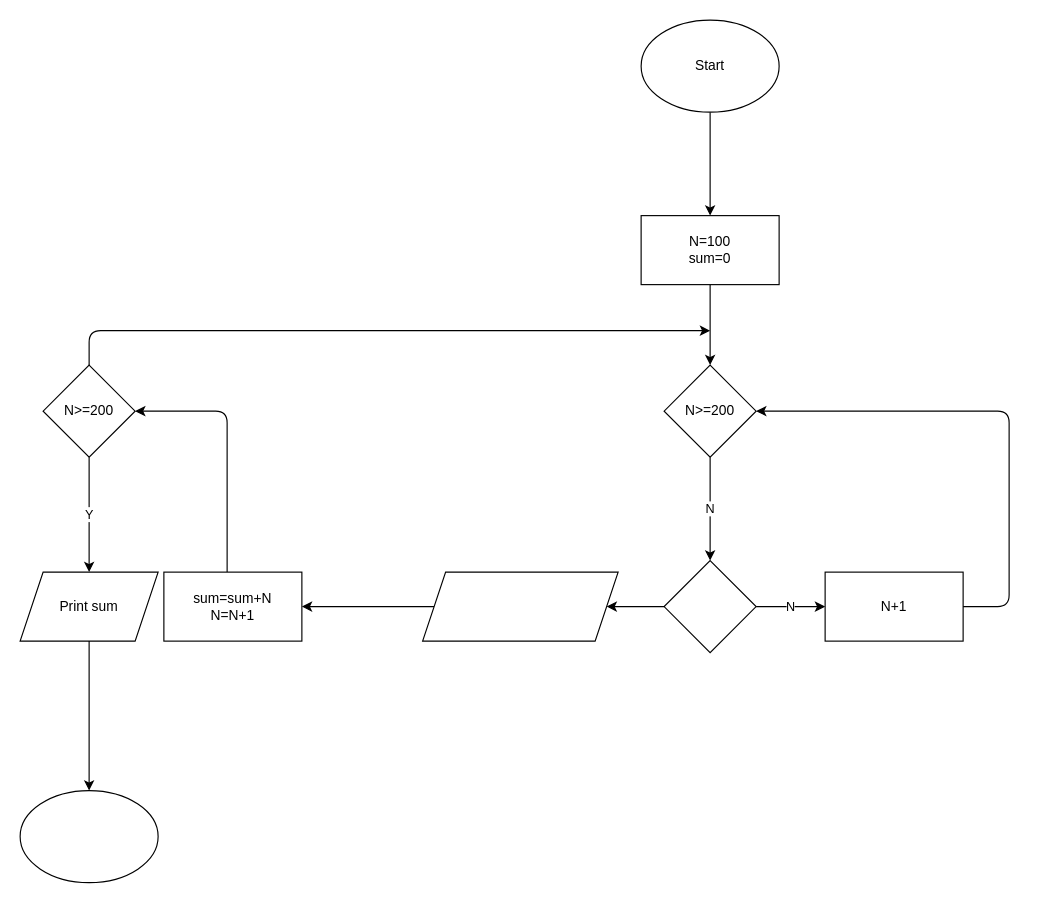
The diagram is 1038 pixels wide and 903 high, and some of its shapes have lost their labels. The centre of each missing label's shape, as x and y in pixels:
"N%9" goes at pixel 709 606.
"Print N is divisible by 9" goes at pixel 519 606.
"Stop" goes at pixel 88 836.
